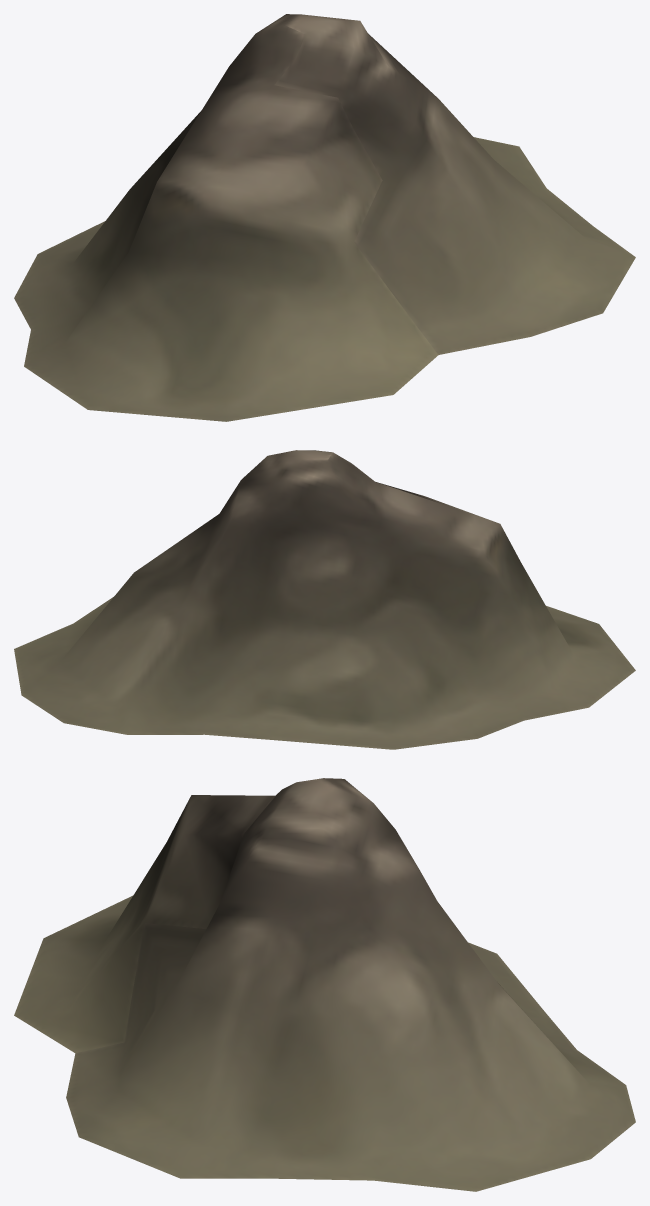
Rendered from Rock_Small_03.FBX.
The picture shows the model from 3 angles, top to bottom: view 1: azimuth 30°, elevation 25°; view 2: azimuth 150°, elevation 25°; view 3: azimuth 270°, elevation 25°; orthographic projection. The views are drawn at different scales.
Parts seen in each view (by area): view 1: Rock_Small_03; view 2: Rock_Small_03; view 3: Rock_Small_03.
Part boxes in pixels (x1,y1,x2,y2): Rock_Small_03: (14,14,635,421); Rock_Small_03: (14,450,635,749); Rock_Small_03: (14,778,635,1191).
Bounding box in the file's own units: 974 × 390 × 849.
